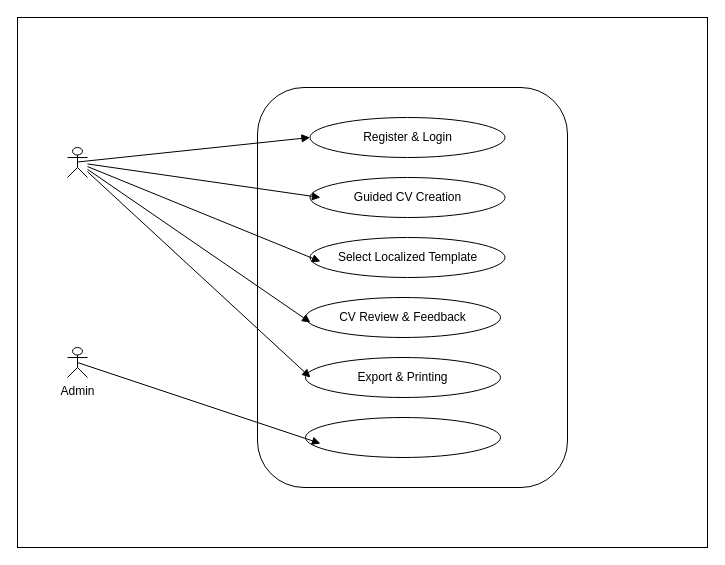
Some shapes in this 725 by 565 pixel diagram are drawn without their labels. Each missing label, with the box of its shape:
Manage Templates: (304, 416, 500, 458)
User: (66, 146, 88, 178)
